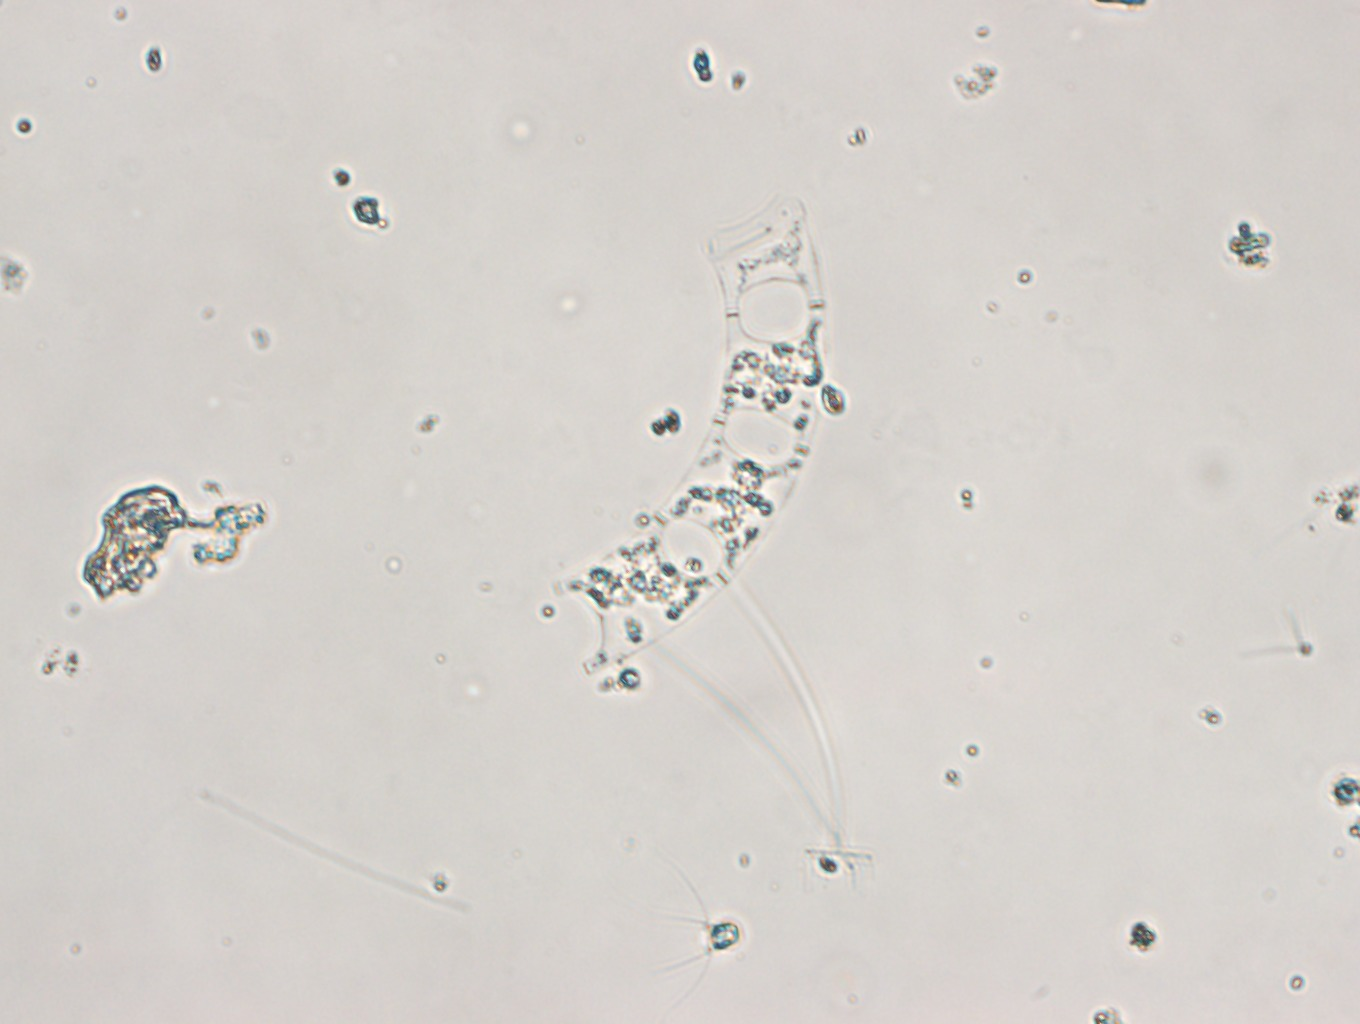eucampia: (561, 199, 833, 673)
